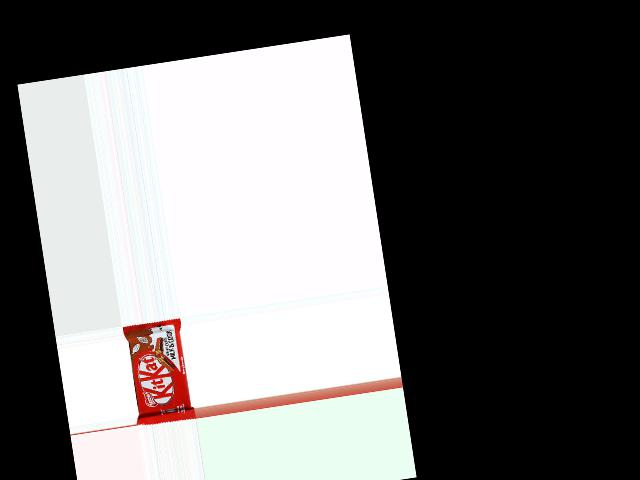chocolate: (122, 316, 196, 426)
